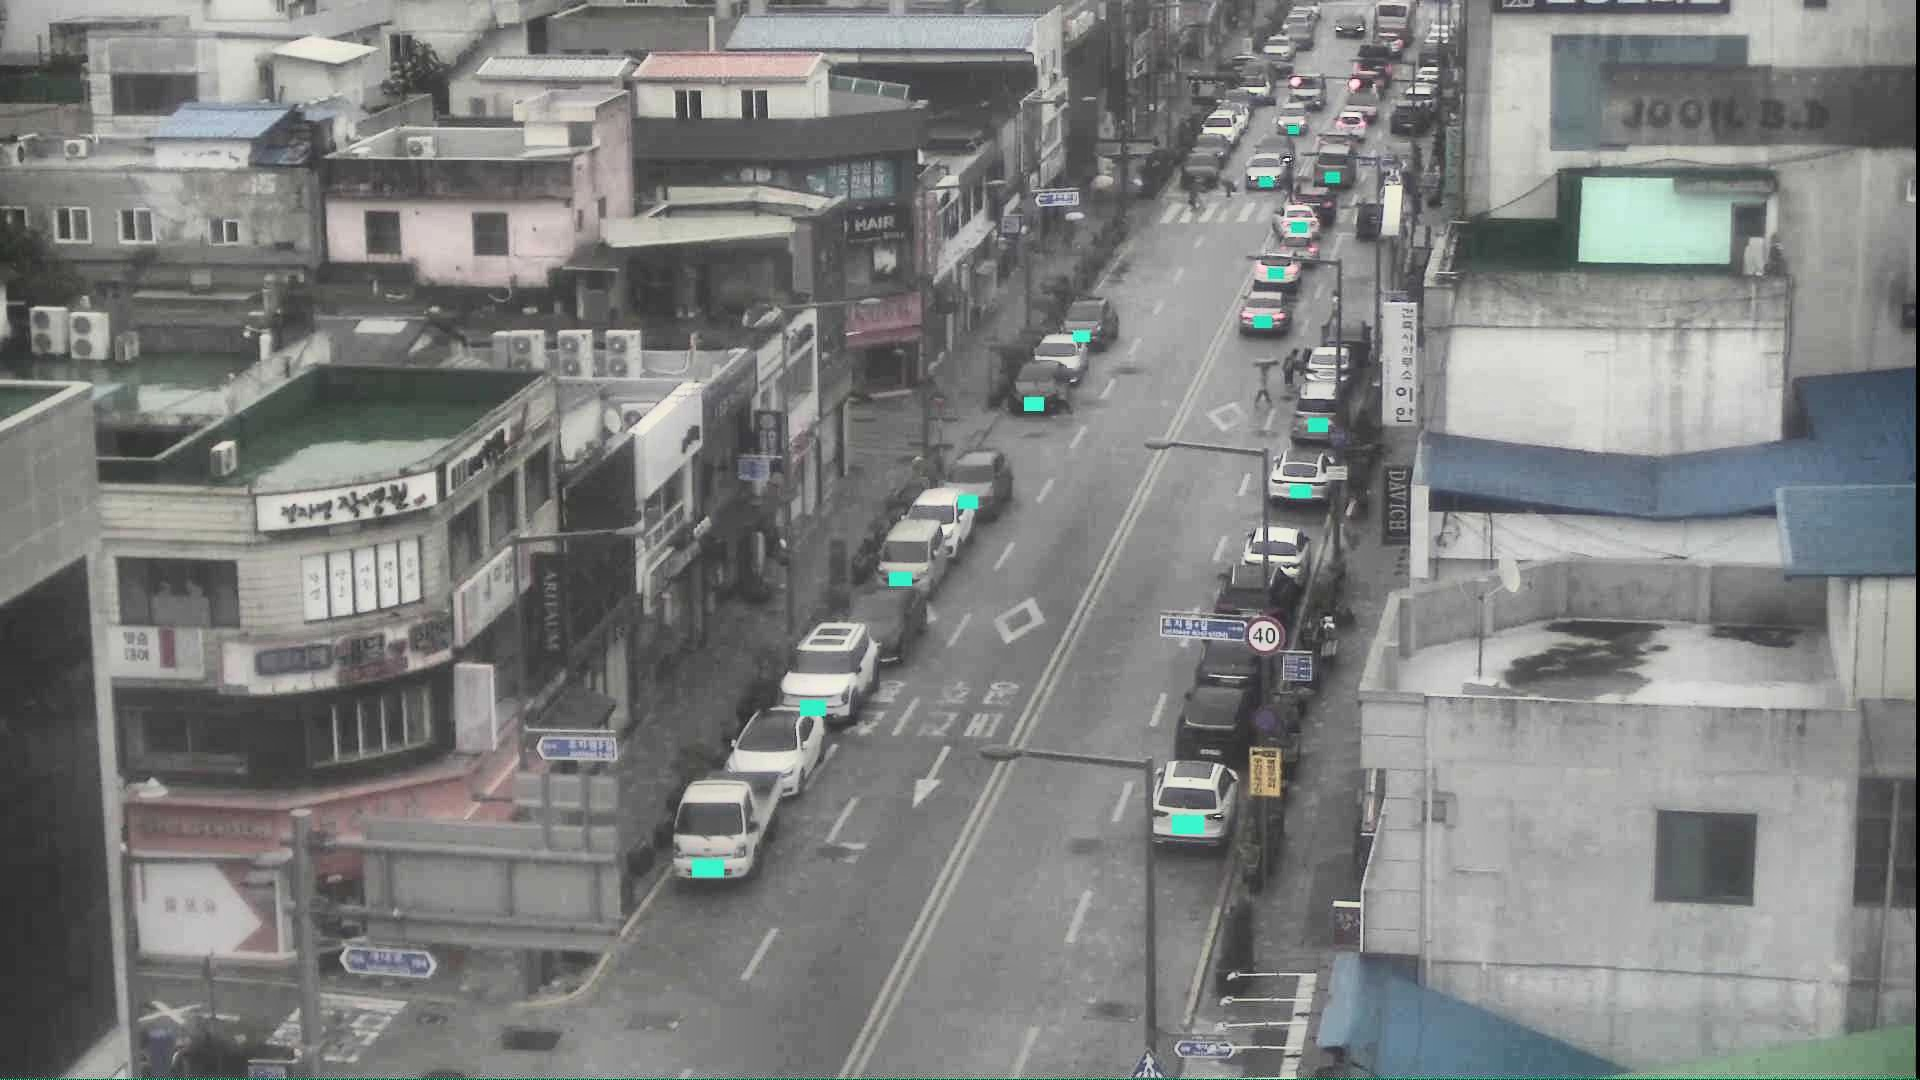jaywalk: (1280, 345, 1298, 402), (1328, 290, 1338, 320)
sidewalk: (770, 531, 789, 595)
um_crosswalk: (1220, 177, 1238, 208), (1187, 182, 1208, 210), (1295, 175, 1311, 199)
um_jaywalk: (1250, 356, 1279, 407)
um_sidewalk: (1088, 171, 1113, 215), (1059, 214, 1083, 251)
